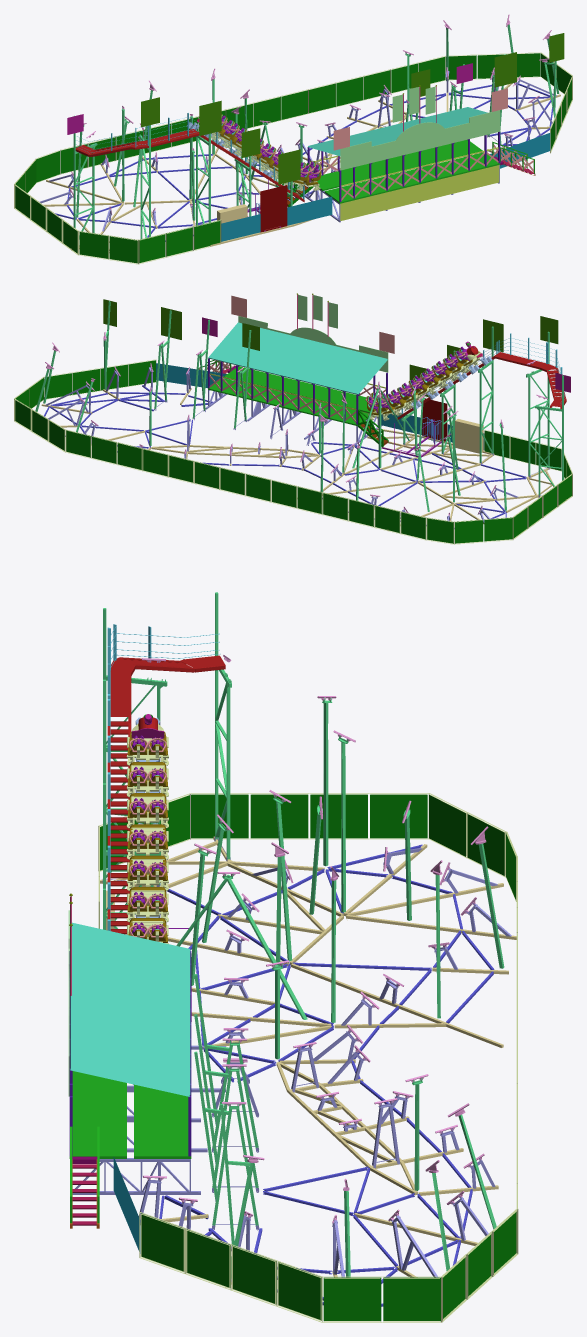
The model's file is typhoon.glb.
The picture shows the model from 3 angles, top to bottom: view 1: azimuth 30°, elevation 25°; view 2: azimuth 150°, elevation 25°; view 3: azimuth 270°, elevation 25°; orthographic projection. The views are drawn at different scales.
Parts seen in each view (by area): view 1: ASSEMBLY_STATIC; view 2: ASSEMBLY_STATIC; view 3: ASSEMBLY_STATIC.
Part boxes in pixels (box(x1,y1,x2,y2)): ASSEMBLY_STATIC: box(14, 14, 572, 264); ASSEMBLY_STATIC: box(14, 293, 572, 544); ASSEMBLY_STATIC: box(68, 592, 518, 1322).
Bounding box in the file's own units: 39.02 × 11.36 × 15.19.
